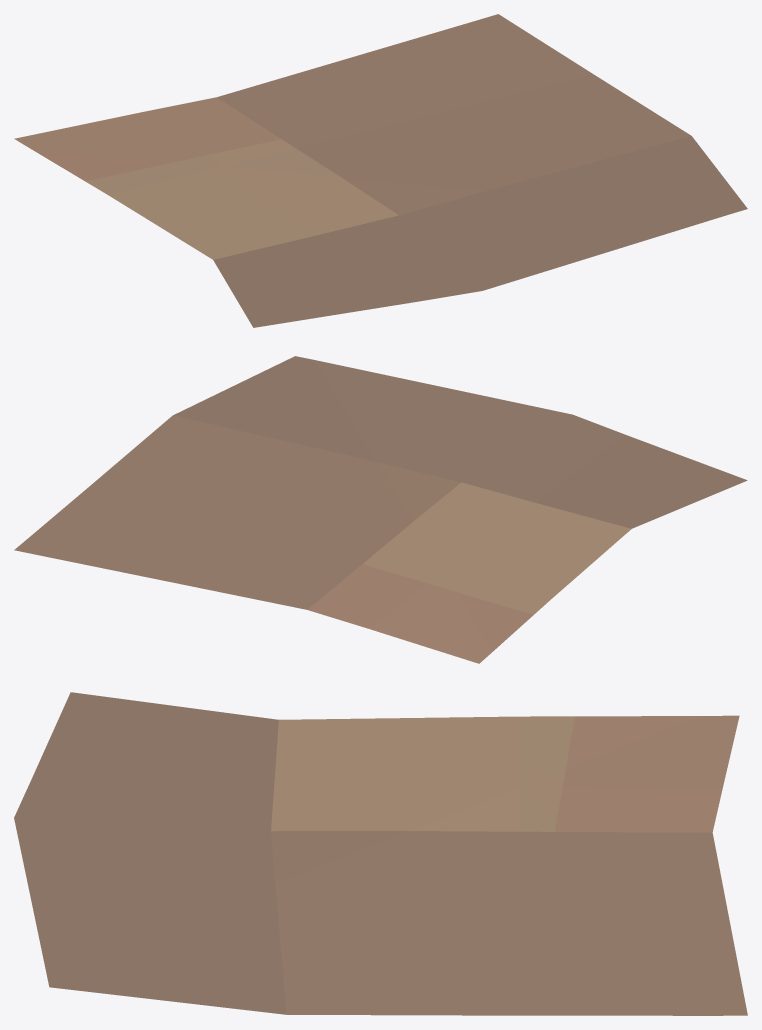
Rendered from farm_25_31_soil.glb.
The picture shows the model from 3 angles, top to bottom: view 1: azimuth 30°, elevation 25°; view 2: azimuth 150°, elevation 25°; view 3: azimuth 270°, elevation 25°; orthographic projection. The views are drawn at different scales.
Parts seen in each view (by area): view 1: geometry_0; view 2: geometry_0; view 3: geometry_0.
Boxes of the visible parts, x1,y1,x2,y2 form: geometry_0: (14, 14, 747, 327); geometry_0: (14, 356, 747, 663); geometry_0: (14, 692, 747, 1015).
Size of the model in its own units: 85.88 by 2.21 by 81.65.
